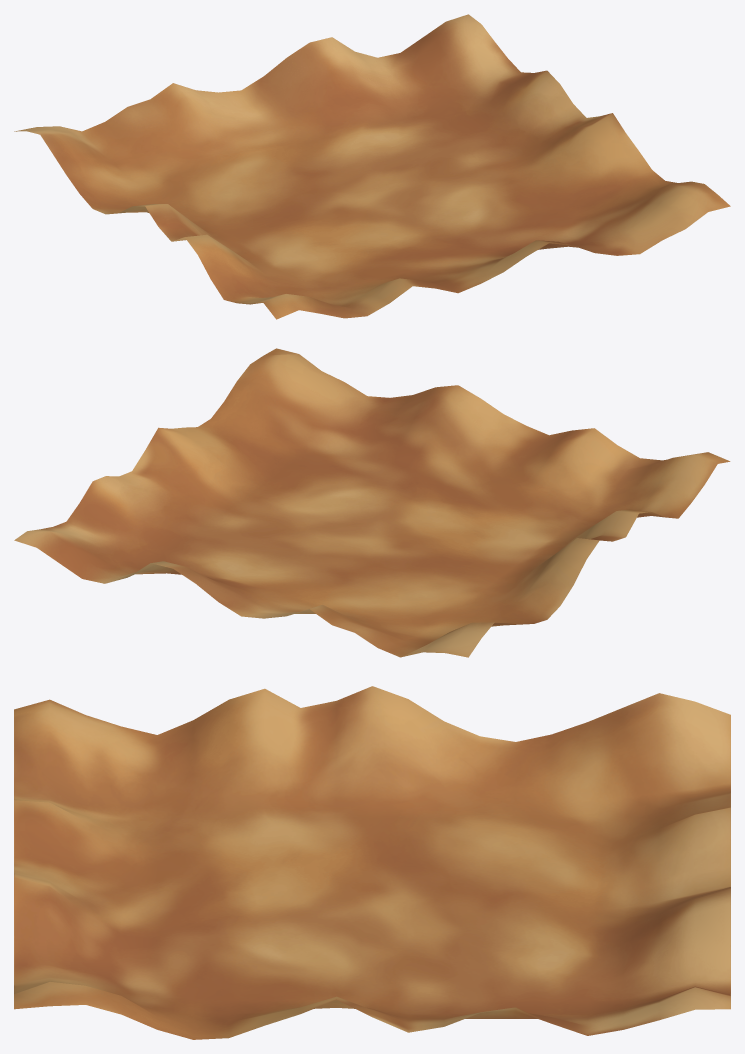
Rendered from dibiao_shamo1.fbx.
3 renders of one model, top to bottom at view 1: azimuth 30°, elevation 25°; view 2: azimuth 150°, elevation 25°; view 3: azimuth 270°, elevation 25°, orthographic. The views are drawn at different scales.
Visible parts, largest first — view 1: dibiao_shamo1; view 2: dibiao_shamo1; view 3: dibiao_shamo1.
Boxes of the visible parts, bbox=[...] form: dibiao_shamo1: bbox=[14, 14, 730, 319]; dibiao_shamo1: bbox=[14, 348, 730, 657]; dibiao_shamo1: bbox=[14, 686, 730, 1039].
Size of the model in its own units: 400000 by 44404 by 400000.
